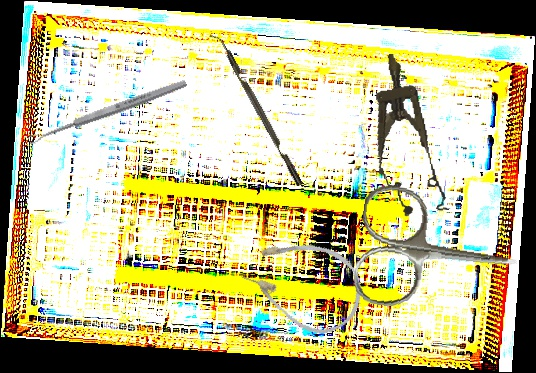Cannula: (232, 220, 375, 346)
Chopper: (208, 29, 303, 191)
Iris Scissors: (350, 182, 526, 323)
Speculum: (359, 48, 451, 221)
Surgical Spoon: (27, 77, 188, 146)
